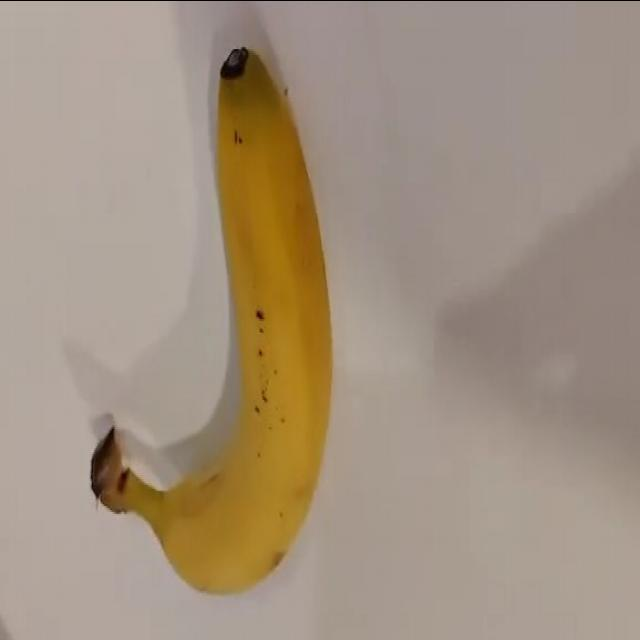Banana: (89, 45, 333, 595)
